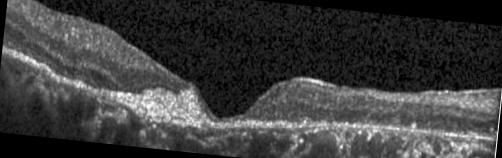lamellar_macular_rupture: (199, 88, 268, 117)
subretinal_hyperreflective_material: (97, 87, 224, 128)
